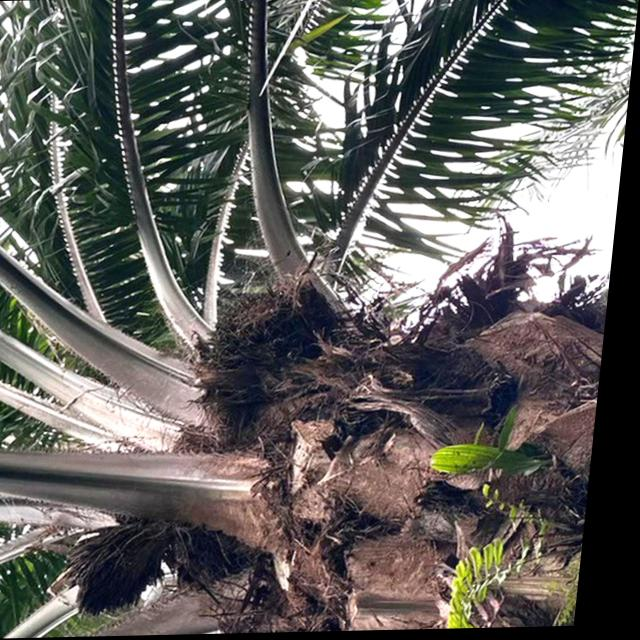unripe: (200, 269, 339, 396)
